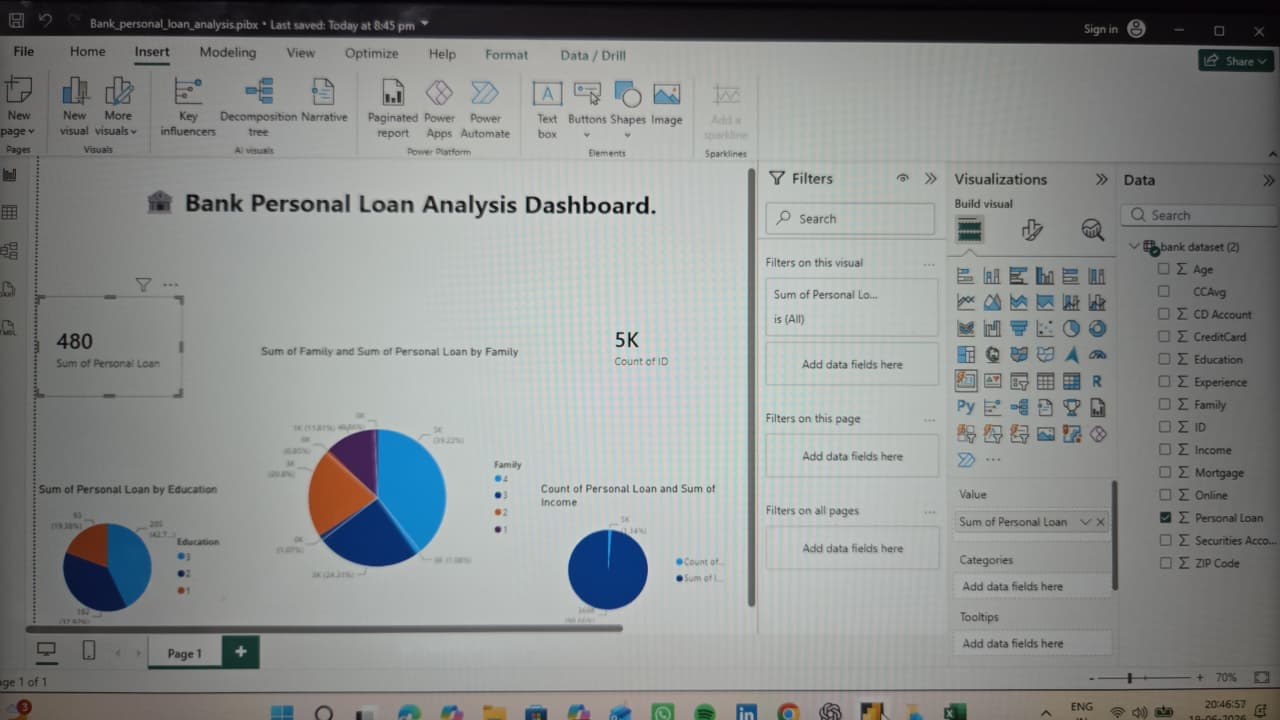

What the dashboard file says about the page in this screenshot:
{"tool":"powerbi","page":{"name":"Page 1","canvas":[1280,720],"ordinal":0},"visuals":[{"type":"pieChart","fields":{"Y":["CountNonNull(bank dataset (2).Personal Loan)","Sum(bank dataset (2).Income)"]},"box":[744.3,487.1,298.6,224.3],"z":0},{"type":"pieChart","fields":{"Category":["bank dataset (2).Education"],"Y":["Sum(bank dataset (2).Personal Loan)"]},"box":[0,487.1,295.7,232.9],"z":1000},{"type":"pieChart","fields":{"Y":["Sum(bank dataset (2).Family)","Sum(bank dataset (2).Personal Loan)"],"Category":["bank dataset (2).Family"]},"box":[327.1,281.4,417.1,438.6],"z":2000},{"type":"cardVisual","fields":{"Data":["CountNonNull(bank dataset (2).ID)"]},"box":[828.6,177.1,268.6,208.6],"z":3000},{"type":"textbox","box":[0,37.1,1054.3,110],"z":3001},{"type":"cardVisual","fields":{"Data":["Sum(bank dataset (2).Personal Loan)"]},"box":[0,210,215.7,150],"z":3002}]}

Visuals, with their boxes on the page's 1280x720 design canvas (x1, y1, x2, y2). These are canvas units, not pixel positions in the 1280x720 screenshot, which may show the page scaled, cropped or inside an application window:
pieChart - CountNonNull(bank dataset (2).Personal Loan) x Sum(bank dataset (2).Income): x1=744 y1=487 x2=1043 y2=711
pieChart - bank dataset (2).Education x Sum(bank dataset (2).Personal Loan): x1=0 y1=487 x2=296 y2=720
pieChart - Sum(bank dataset (2).Family) x Sum(bank dataset (2).Personal Loan): x1=327 y1=281 x2=744 y2=720
cardVisual - CountNonNull(bank dataset (2).ID): x1=829 y1=177 x2=1097 y2=386
textbox: x1=0 y1=37 x2=1054 y2=147
cardVisual - Sum(bank dataset (2).Personal Loan): x1=0 y1=210 x2=216 y2=360
